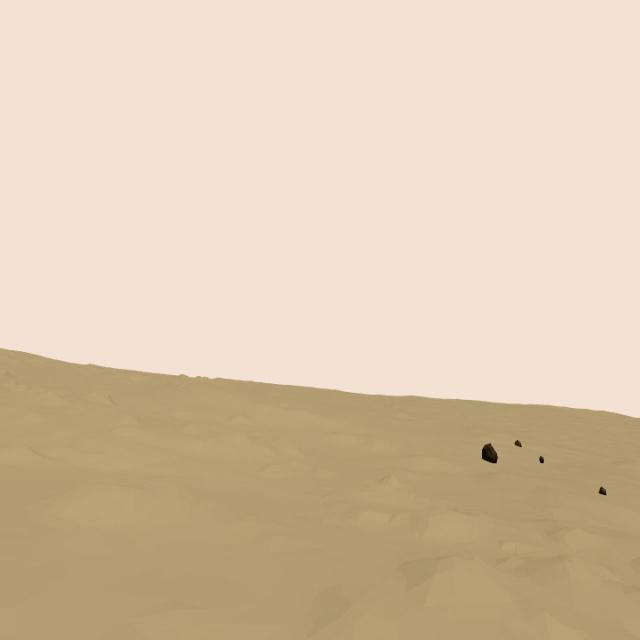rock: (482, 442, 498, 465), (600, 486, 606, 495), (514, 439, 521, 446), (538, 455, 544, 462)
